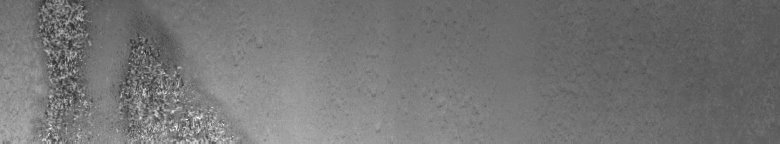hc: (39, 4, 215, 136)
